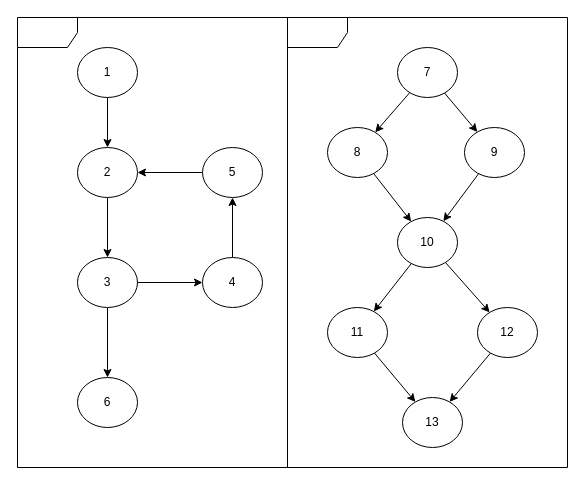
Some shapes in this 585 by 485 pixel diagram are drawn without their labels. Each missing label, with the box of its shape:
bar: (286, 16, 568, 468)
foo: (16, 16, 288, 468)
